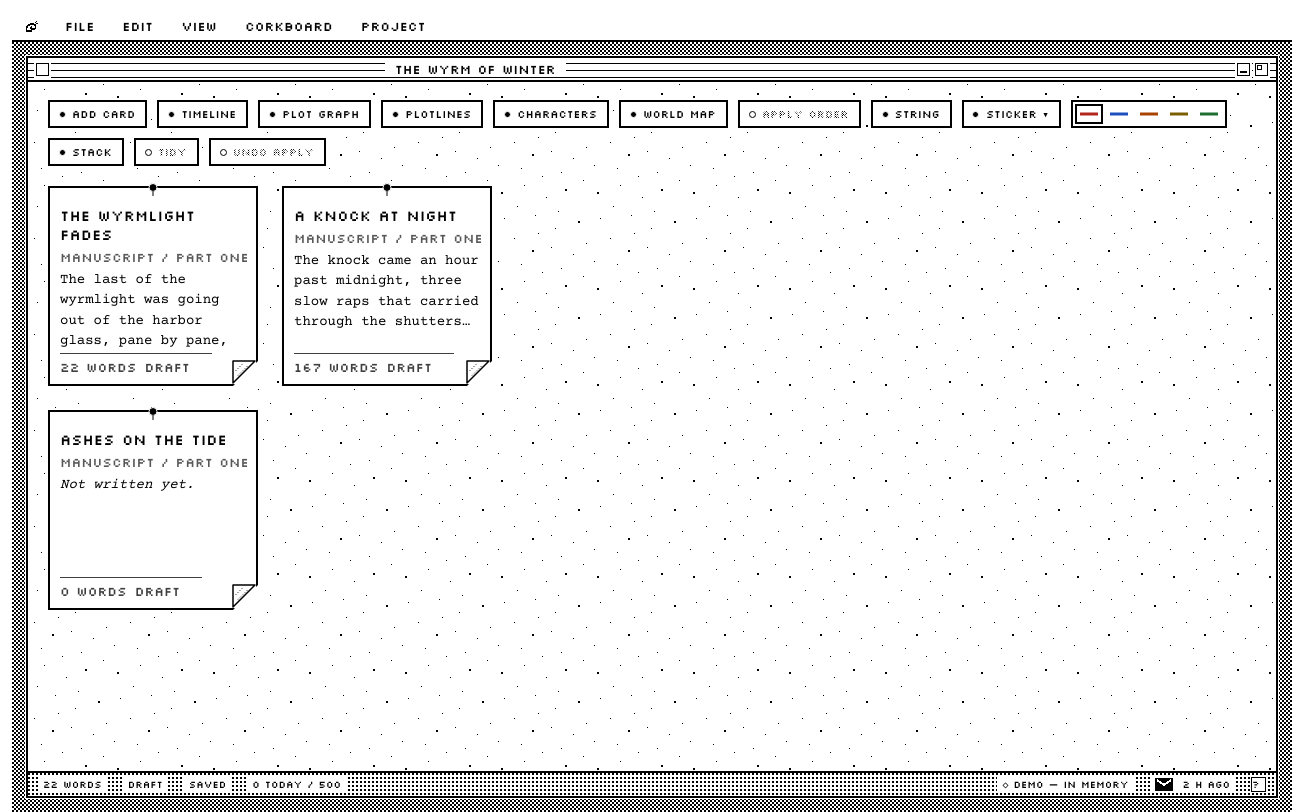
Test: Esc from a scene opened on the board › uses the remembered place once: a later trip away and back keeps where the writer is now
The image size is (1292, 812).
Expected: the element that starts with "The Wyrmlight Fades" is shown, [48,186,258,386]
Click the button with aria-label "Open A Knock at Night" at (387, 291), box [284,198,490,384]
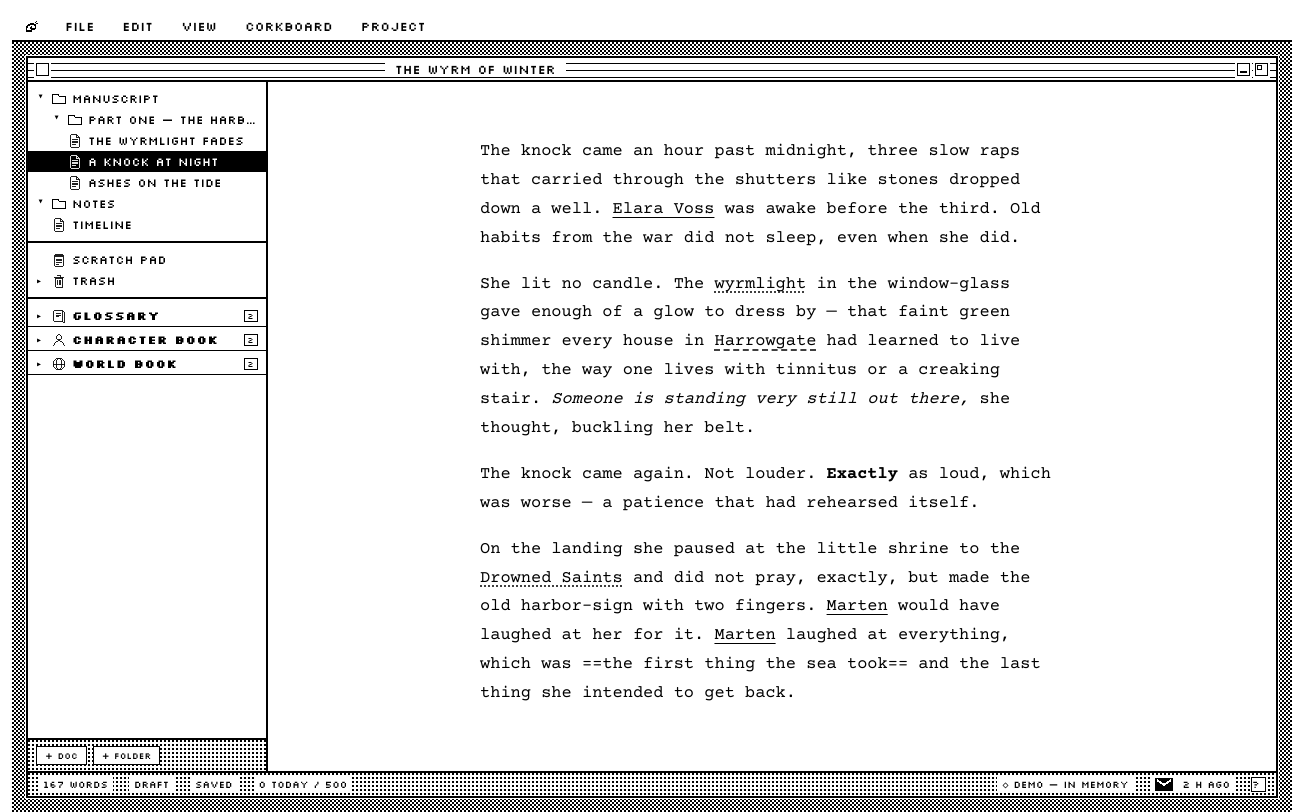
Press Escape
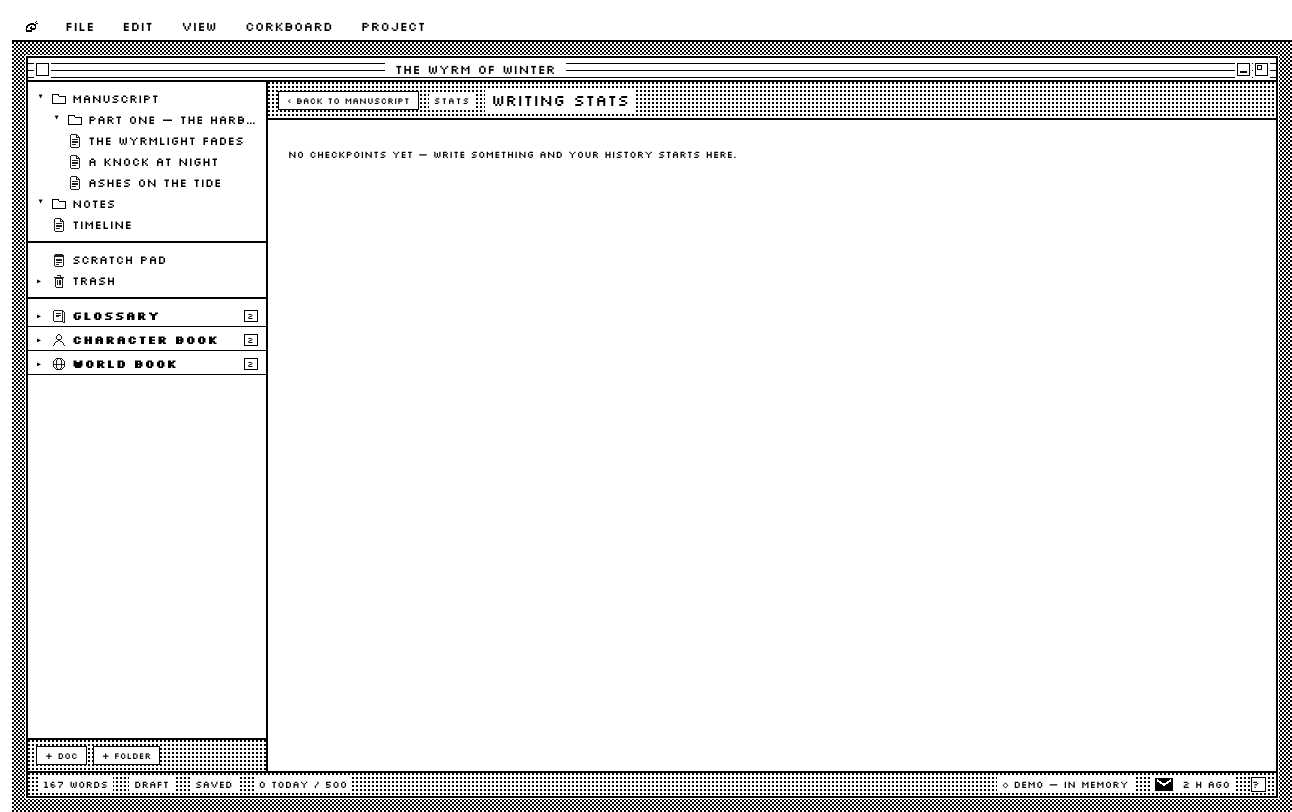
Press Escape
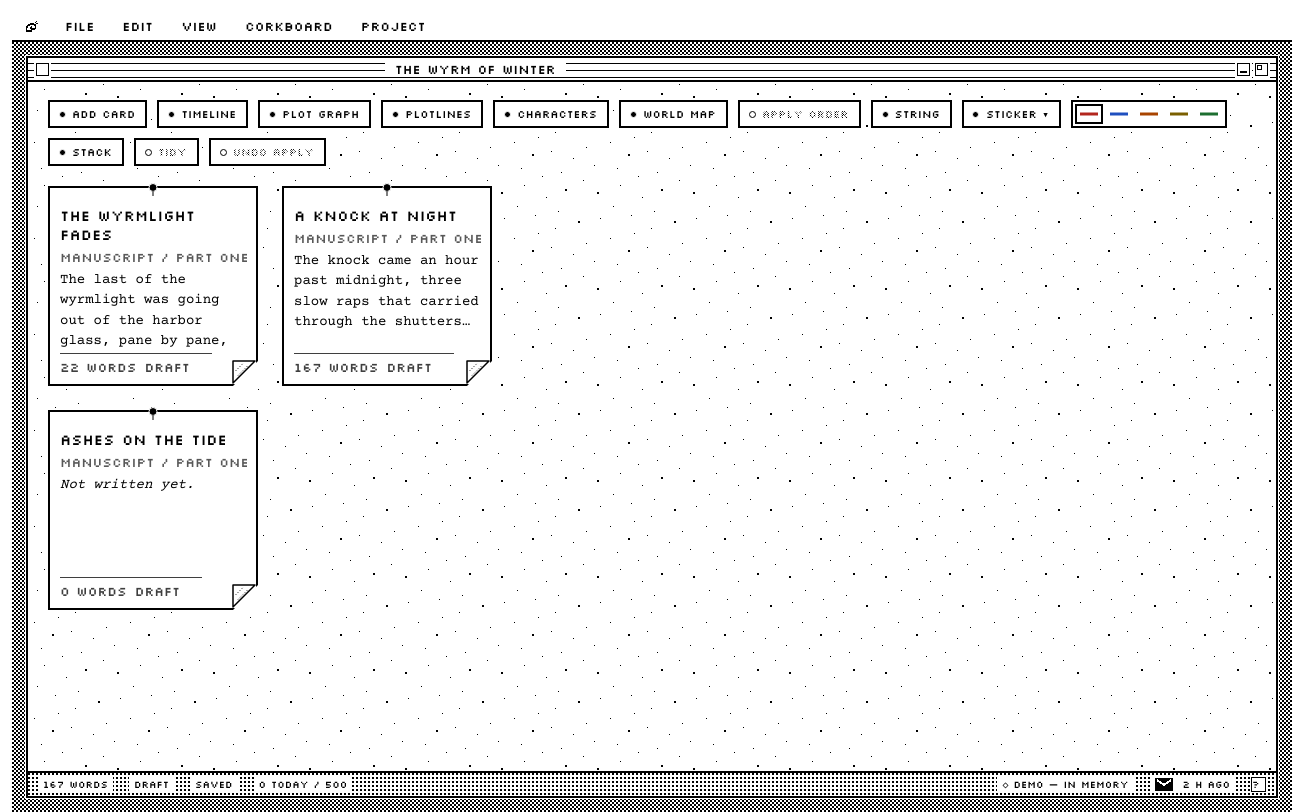
Expected: the element that starts with "The Wyrmlight Fades" is shown, [48,186,258,386]
